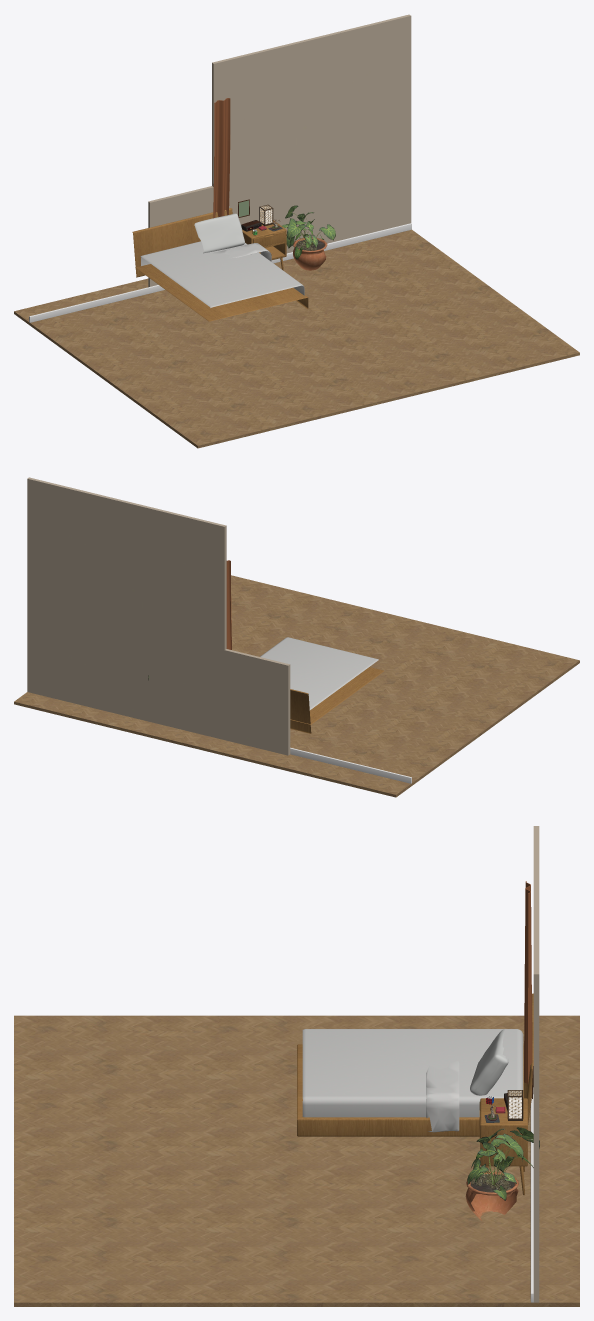
File: donor.glb
The picture shows the model from 3 angles, top to bottom: view 1: azimuth 30°, elevation 25°; view 2: azimuth 150°, elevation 25°; view 3: azimuth 270°, elevation 25°; orthographic projection. The views are drawn at different scales.
Visible parts, largest first — view 1: Floor, WallRight, WallFar, Mattress, BedFrame, Headboard, Curtain1, WallBelow, potted_plant_02, Skirting, Pillow1, Nightstand; view 2: Floor, WallRight, WallFar, WallBelow, Mattress, BedFrame, Skirting, Headboard, Curtain1; view 3: Floor, Mattress, BedFrame, potted_plant_02, WallFar, SheetFold, Nightstand, Curtain1, Pillow1, Skirting, WallRight.
Part boxes in pixels (x1,y1,x2,y2): Floor: (14, 229, 579, 448); WallRight: (212, 31, 340, 253); WallFar: (339, 14, 411, 240); Mattress: (140, 241, 304, 307); BedFrame: (135, 264, 308, 321); Headboard: (132, 208, 232, 277); Curtain1: (213, 98, 230, 218); WallBelow: (148, 186, 213, 287); potted_plant_02: (282, 205, 335, 270); Skirting: (29, 223, 411, 322); Pillow1: (194, 213, 244, 253); Nightstand: (242, 220, 286, 270); Floor: (14, 575, 579, 797); WallRight: (97, 494, 226, 739); WallFar: (27, 477, 98, 708); WallBelow: (224, 649, 290, 755); Mattress: (260, 637, 378, 710); BedFrame: (290, 667, 383, 724); Skirting: (290, 747, 411, 783); Headboard: (290, 689, 311, 733); Curtain1: (226, 560, 231, 649); Floor: (14, 1015, 579, 1306); Mattress: (302, 1029, 523, 1117); BedFrame: (297, 1044, 523, 1136); potted_plant_02: (465, 1127, 539, 1220); WallFar: (533, 921, 539, 1302); SheetFold: (426, 1061, 459, 1132); Nightstand: (479, 1098, 527, 1195); Curtain1: (524, 881, 532, 1086); Pillow1: (470, 1029, 508, 1095); Skirting: (530, 1087, 533, 1302); WallRight: (533, 826, 539, 921).
Bounding box in the file's own units: 60 × 32.4 × 50.
48 materials, 11 textured.
